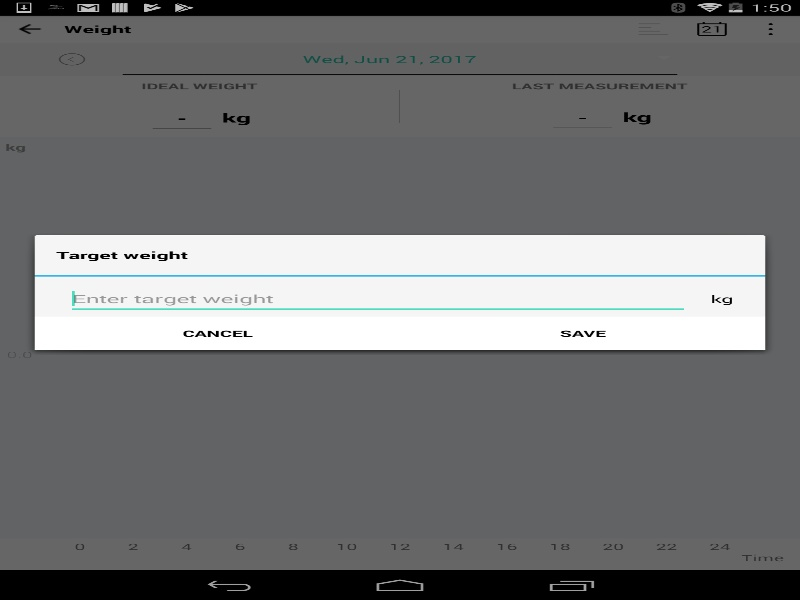Button: (405, 316, 760, 350), (40, 316, 394, 350)
Input: (66, 284, 689, 314)
